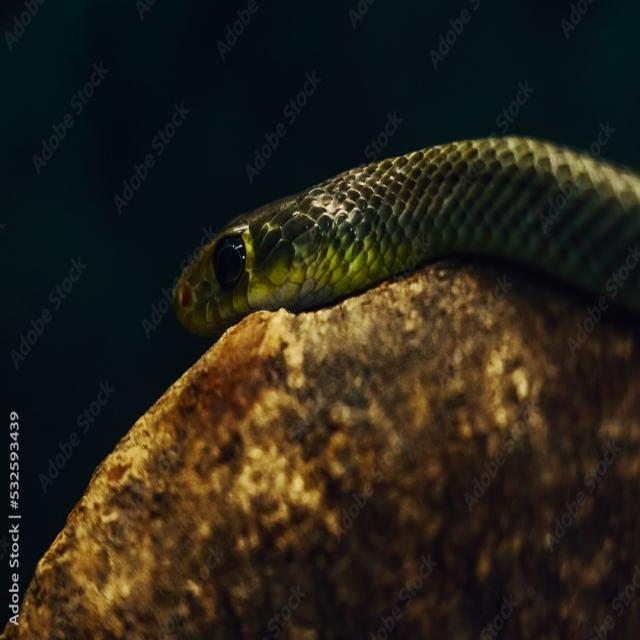Snake: (160, 0, 640, 403)
